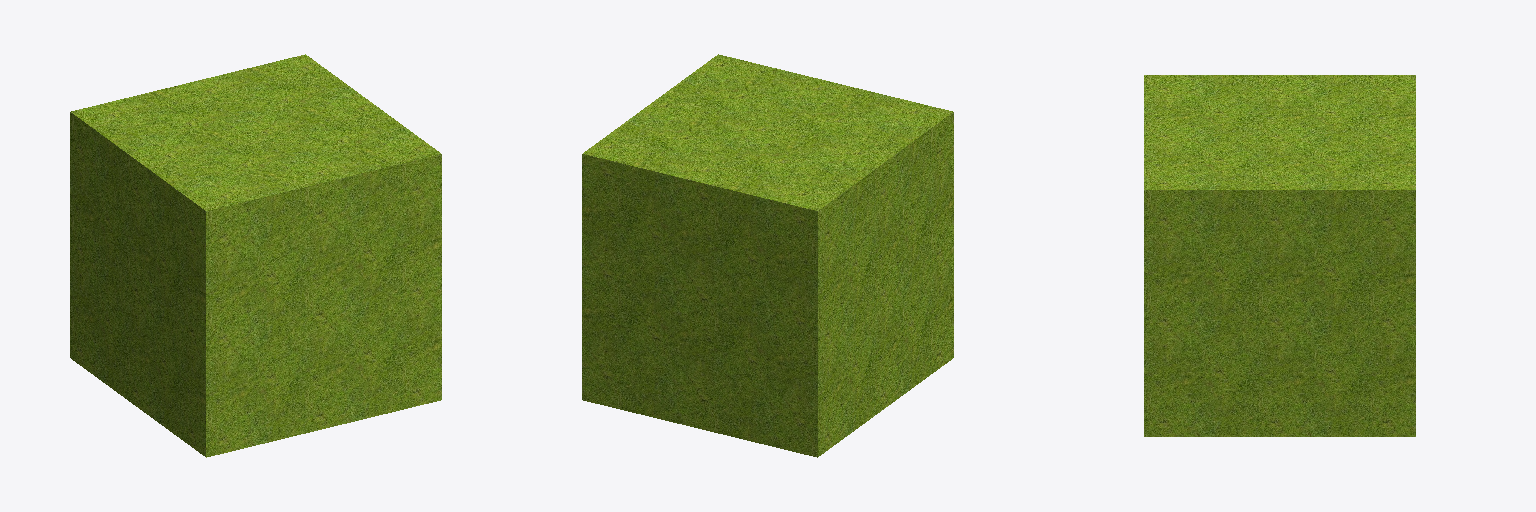
3 views of the same model, side by side, from view 1: azimuth 30°, elevation 25°; view 2: azimuth 150°, elevation 25°; view 3: azimuth 270°, elevation 25° (orthographic).
Visible parts, largest first — view 1: Cube; view 2: Cube; view 3: Cube.
Part boxes in pixels (bbox=[...]): Cube: bbox=[70, 54, 441, 457]; Cube: bbox=[582, 54, 953, 457]; Cube: bbox=[1144, 75, 1415, 436].
Bounding box in the file's own units: 2 × 2 × 2.
1 materials, 1 textured.